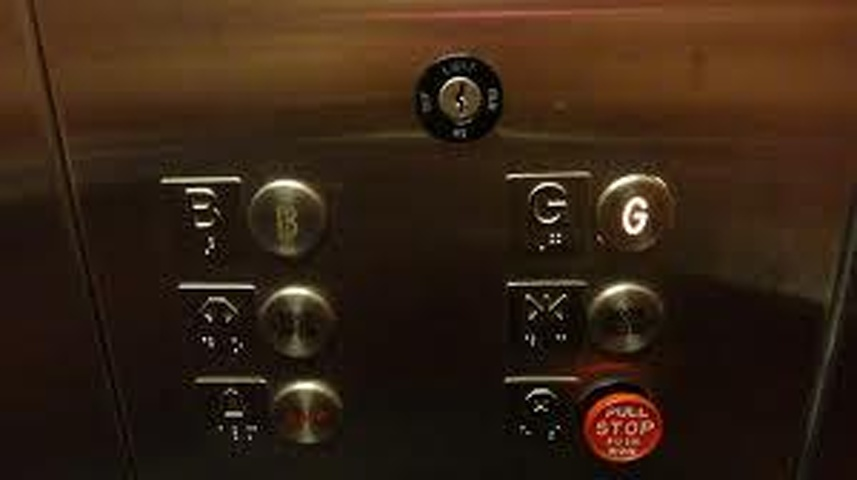B: (155, 175, 249, 262), (249, 180, 328, 260)
G: (503, 169, 595, 257), (597, 169, 680, 260)
alarm: (187, 375, 272, 457)
blur: (586, 278, 667, 359), (260, 283, 338, 363), (269, 376, 345, 448)
close: (502, 277, 588, 359)
keyhole: (414, 52, 505, 147)
open: (170, 280, 260, 361)
stop: (503, 375, 582, 451)
text_stop: (585, 382, 665, 466)
